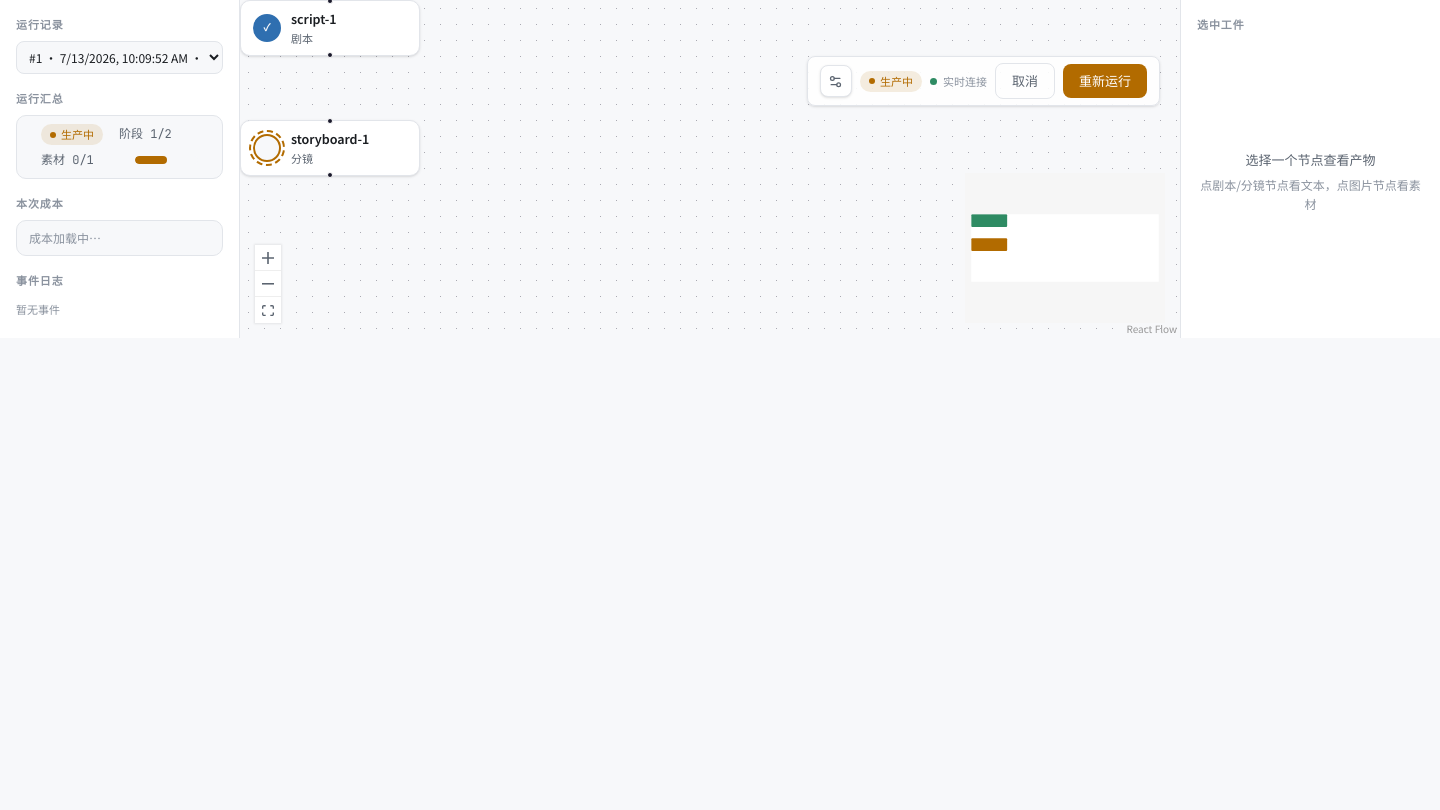
Test case: RunCanvas unified run entry (workflow endpoint + run inputs) › 有必填 schema 点运行先弹 RunInputsDialog，不直接发请求
This screenshot has width=1440, height=810.
Click the button "重新运行" at coordinates (1105, 81), box x1=1063 y1=64 x2=1147 y2=98
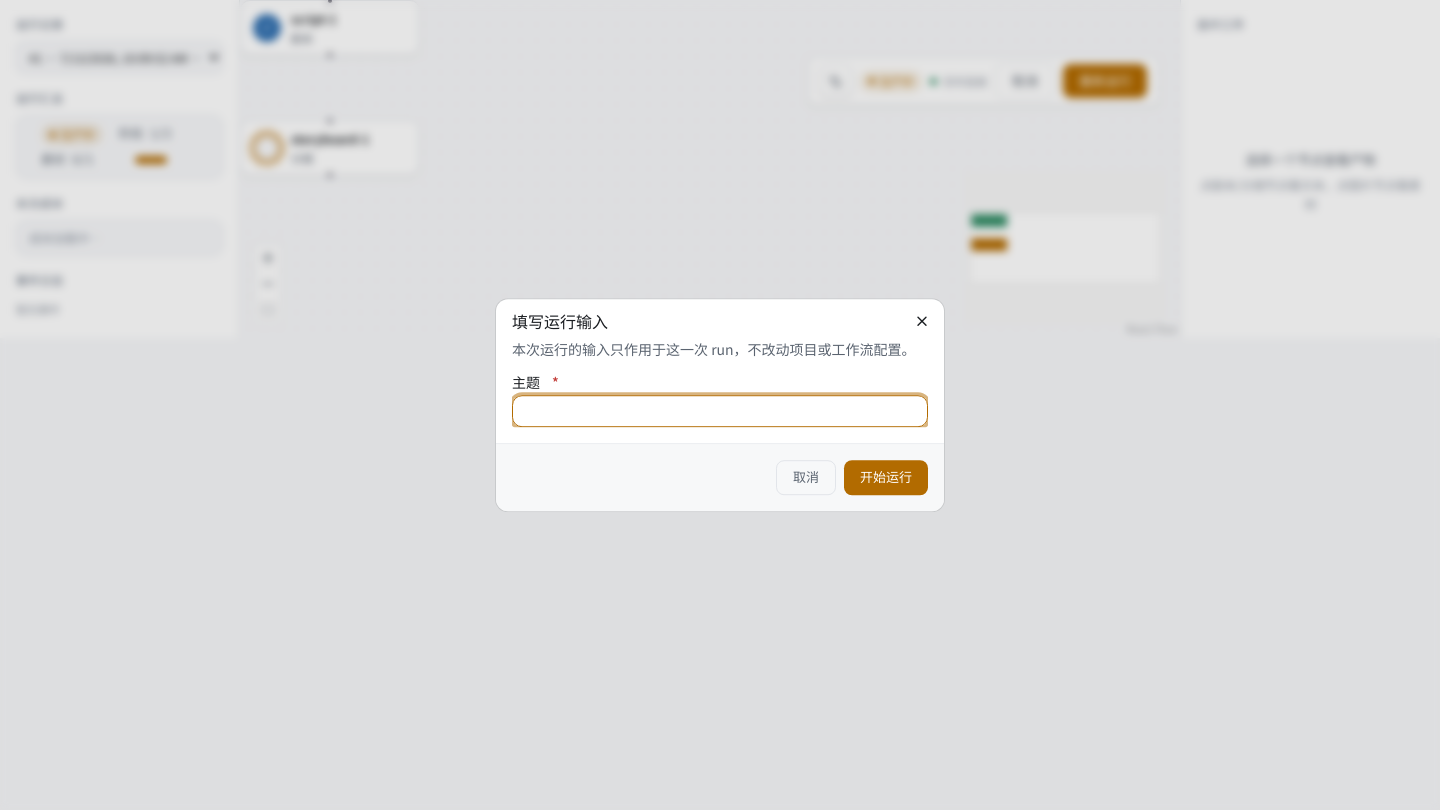
Check: the heading "填写运行输入" is shown, box x1=512 y1=312 x2=608 y2=333
